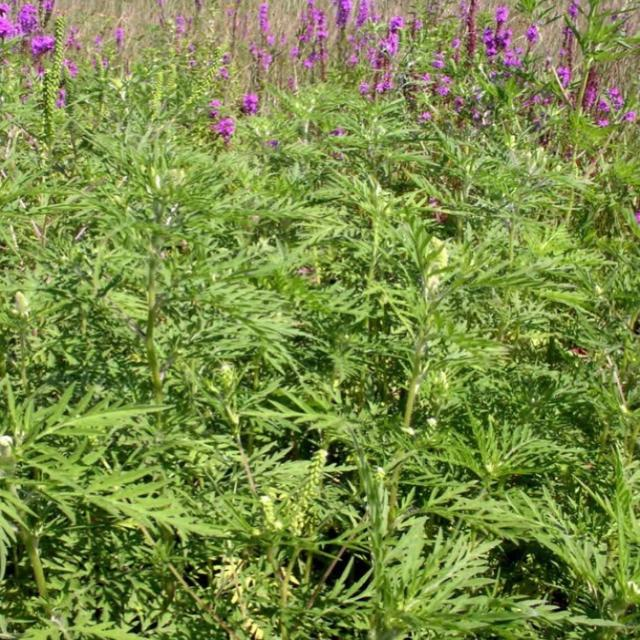ambrosia: (84, 119, 315, 360), (0, 381, 232, 579), (337, 191, 569, 362), (338, 510, 526, 640), (438, 403, 560, 501)
